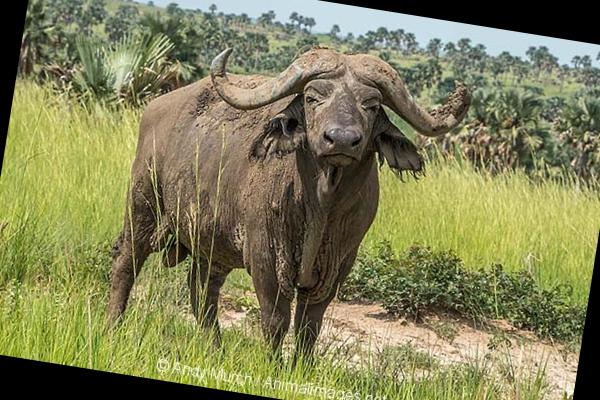Buffalo: (50, 0, 514, 400)
